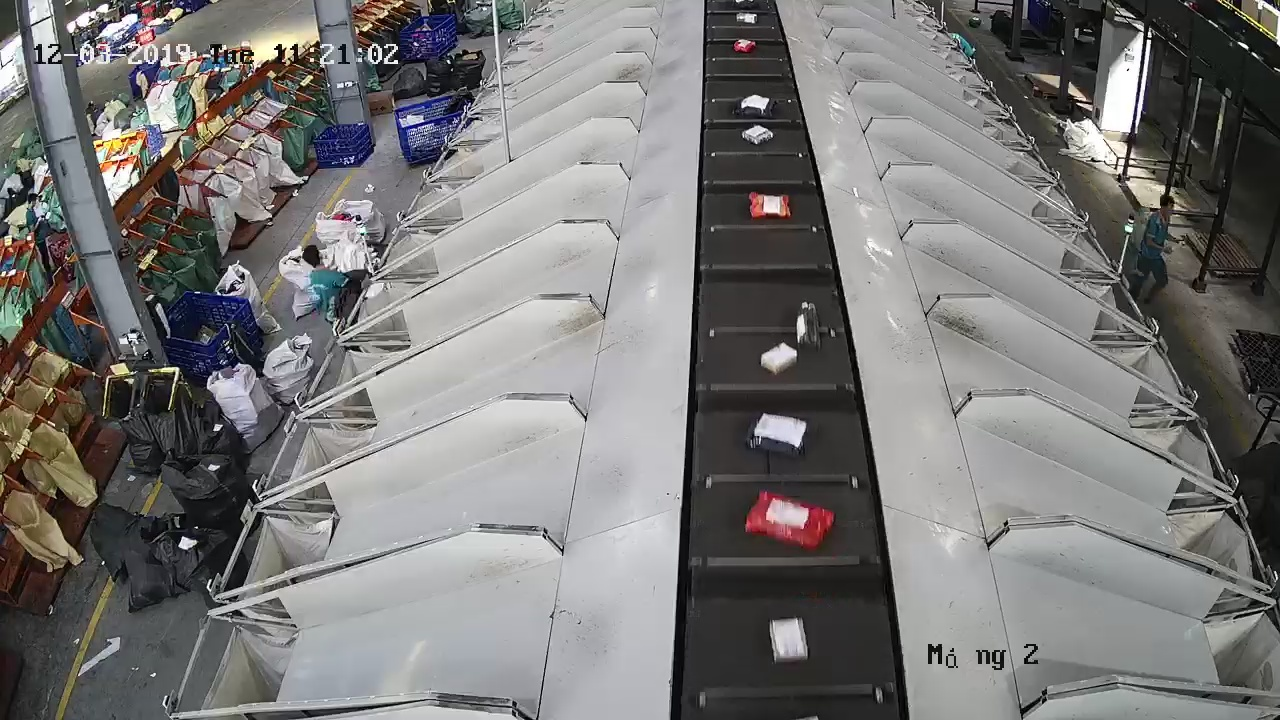parcel: (743, 489, 837, 554), (744, 410, 809, 458), (768, 615, 809, 666), (795, 299, 823, 352), (759, 341, 799, 376), (748, 191, 792, 221)
